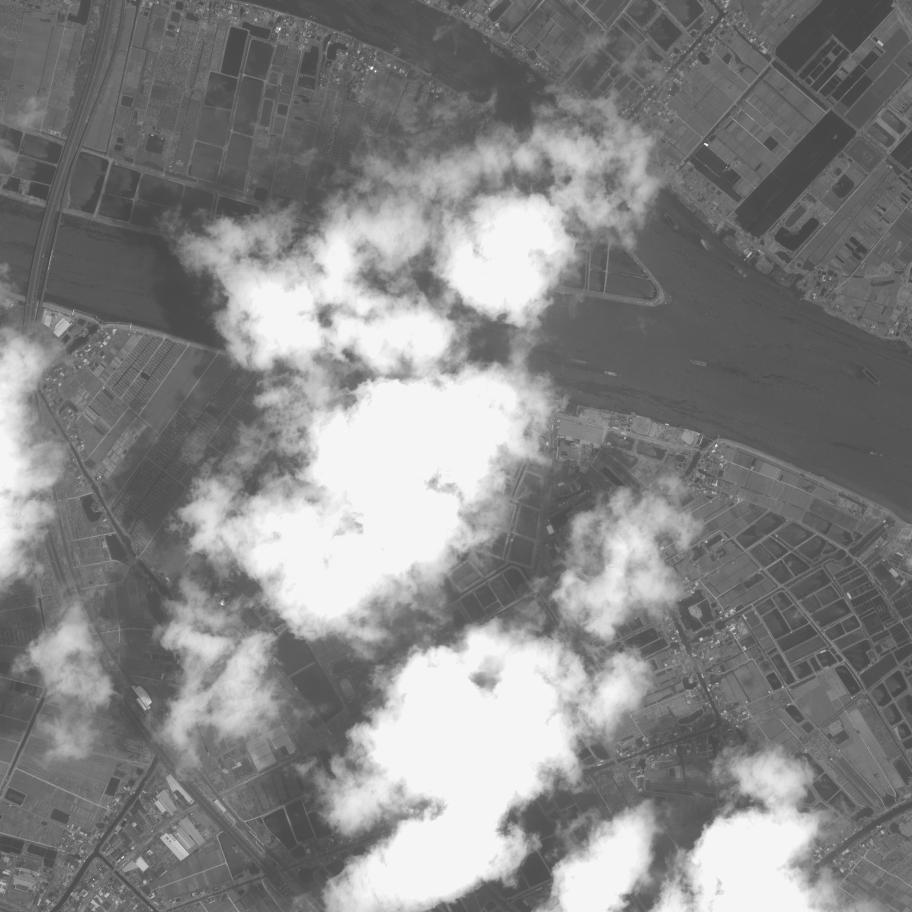ship: (861, 366, 880, 385), (663, 211, 680, 232), (690, 359, 711, 368), (734, 266, 748, 278), (699, 238, 710, 252), (570, 358, 589, 365), (489, 42, 499, 55), (703, 238, 712, 250), (603, 370, 618, 377), (869, 451, 882, 457), (393, 47, 402, 53), (392, 49, 401, 55), (528, 76, 535, 83), (526, 79, 532, 86), (395, 46, 402, 51)
